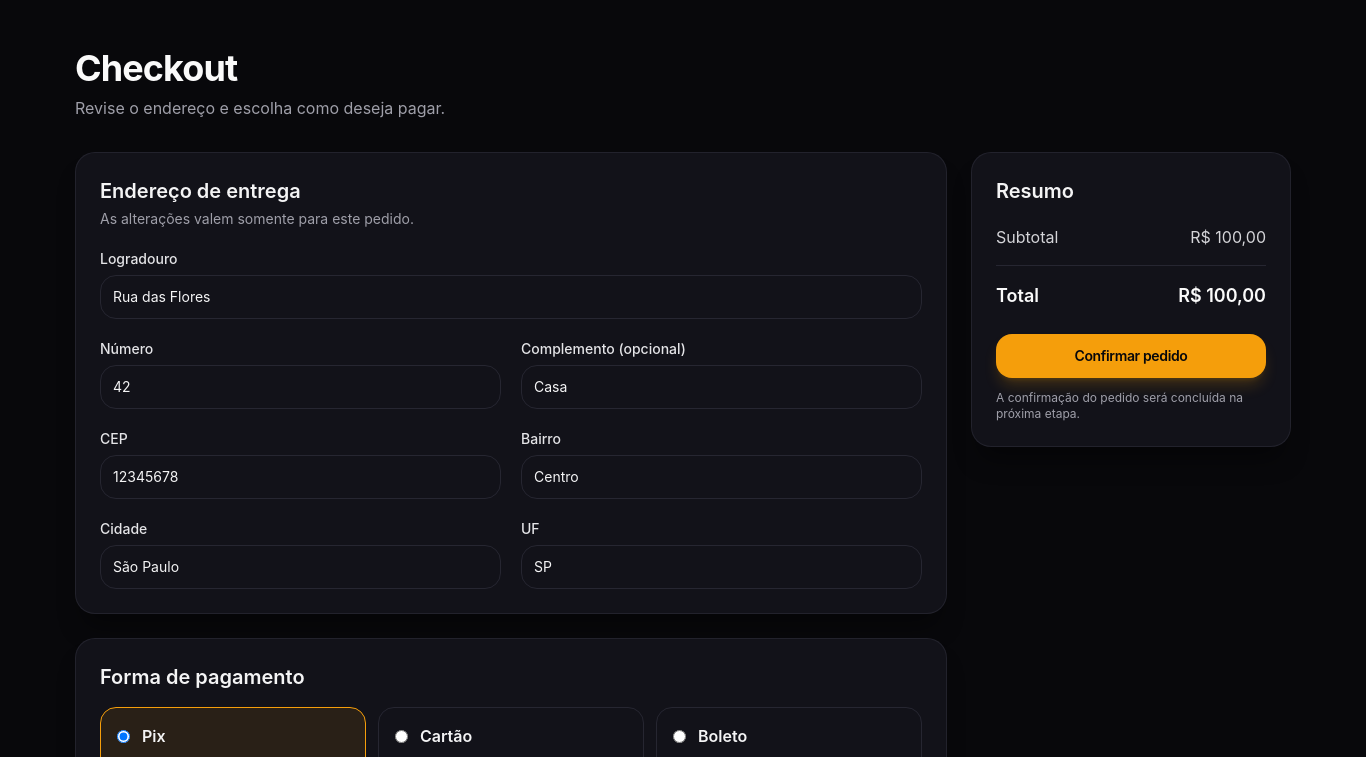
Test: CheckoutPage › keeps address edits local and focuses the actionable summary after invalid submit
Replace the text in the field labelled "Logradouro" with "Rua editada apenas no pedido" at point(511, 297), box [100,275,922,319]
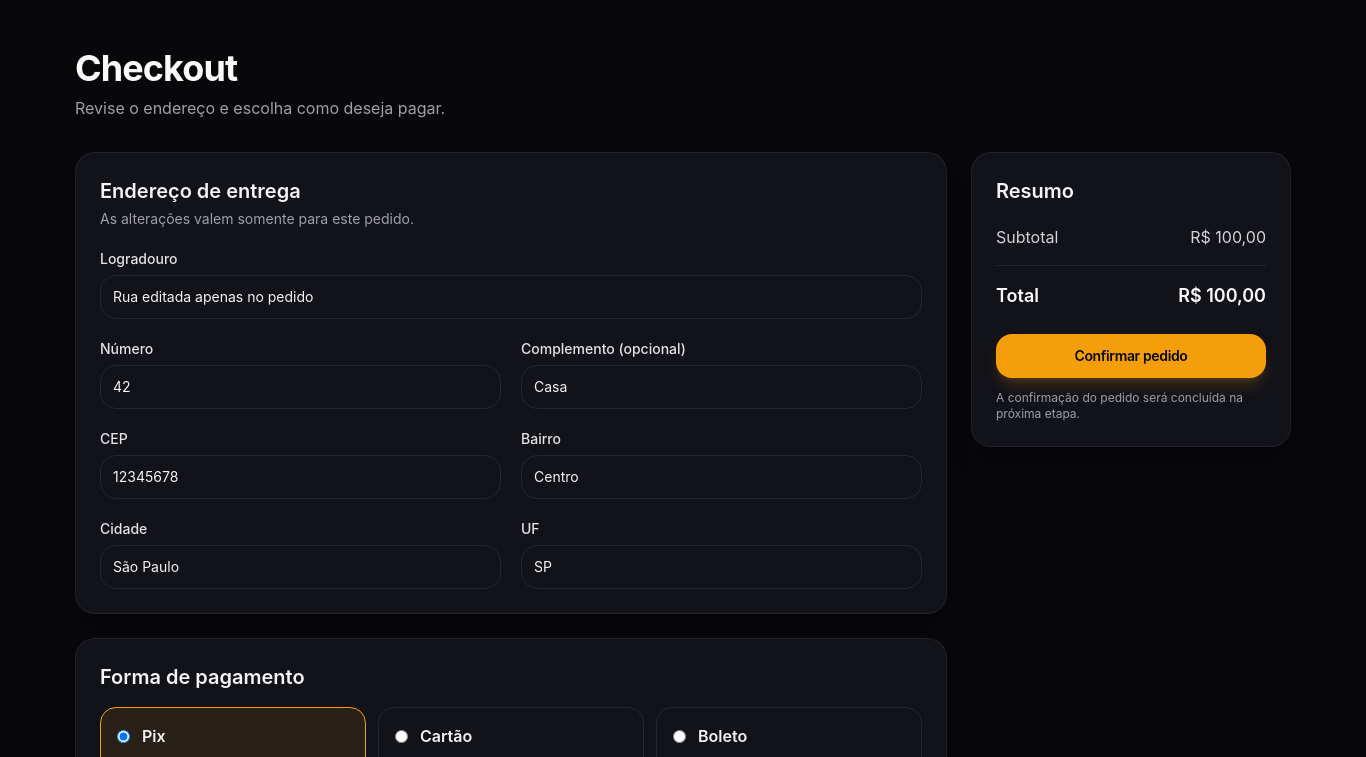
Clear the field labelled "Logradouro" at point(511, 297), box [100,275,922,319]
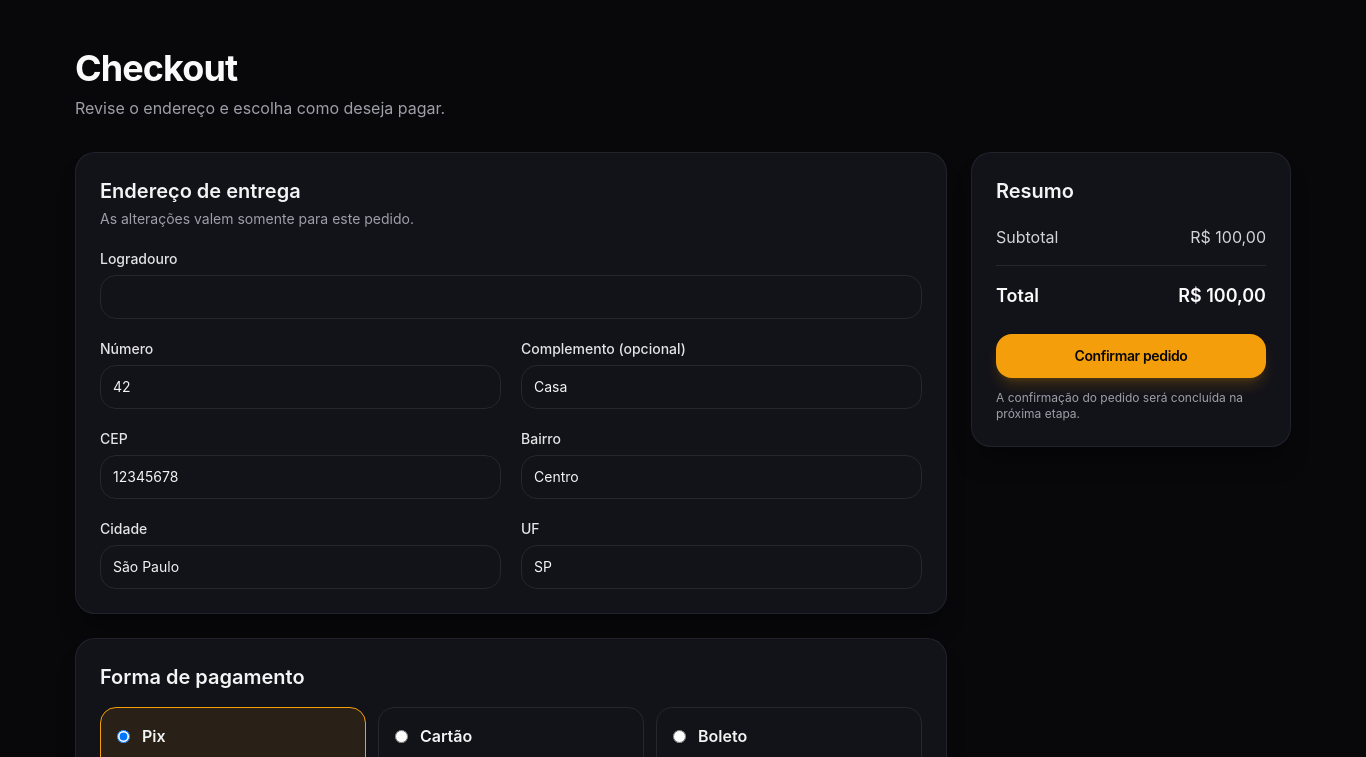
Replace the text in the field labelled "UF" with "S" at point(722, 567), box [521,545,922,589]
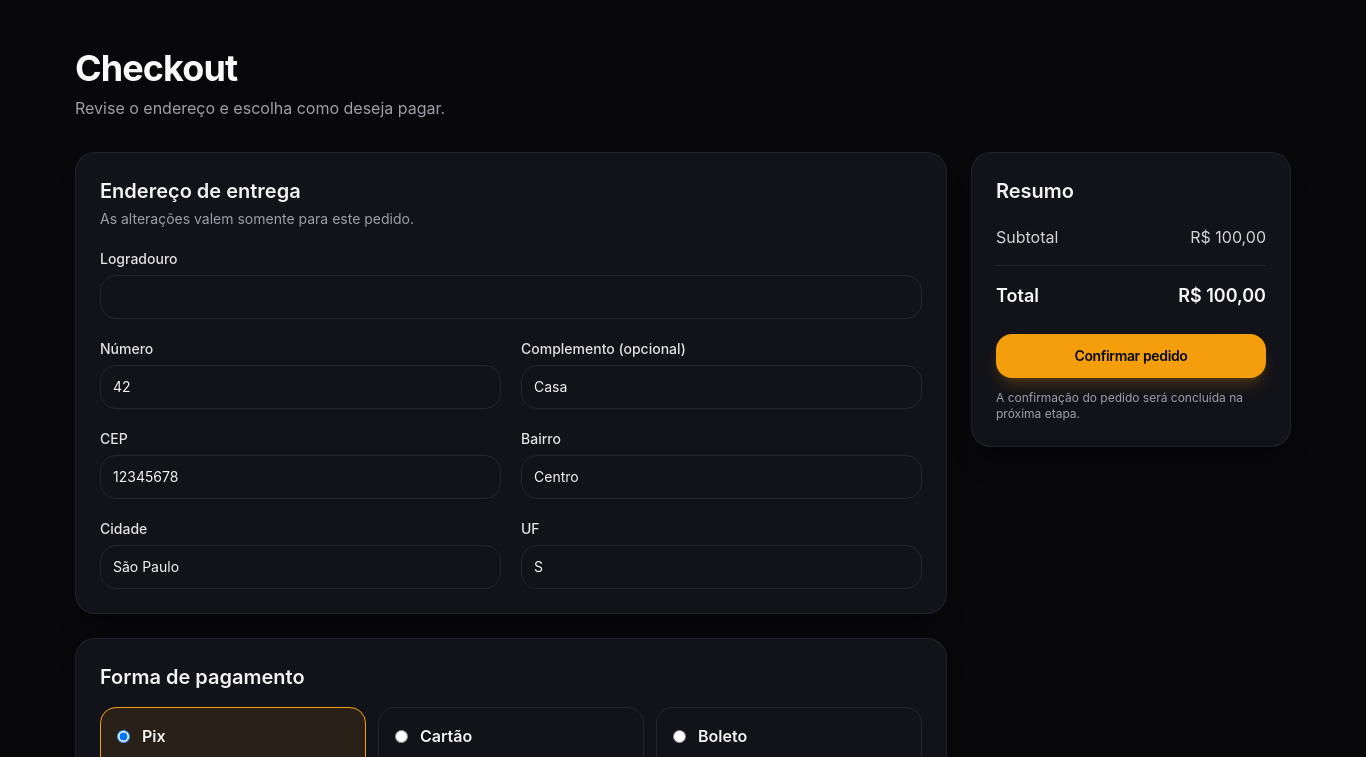
Click the button "Confirmar pedido".
click(1131, 356)  # box [996,334,1266,378]
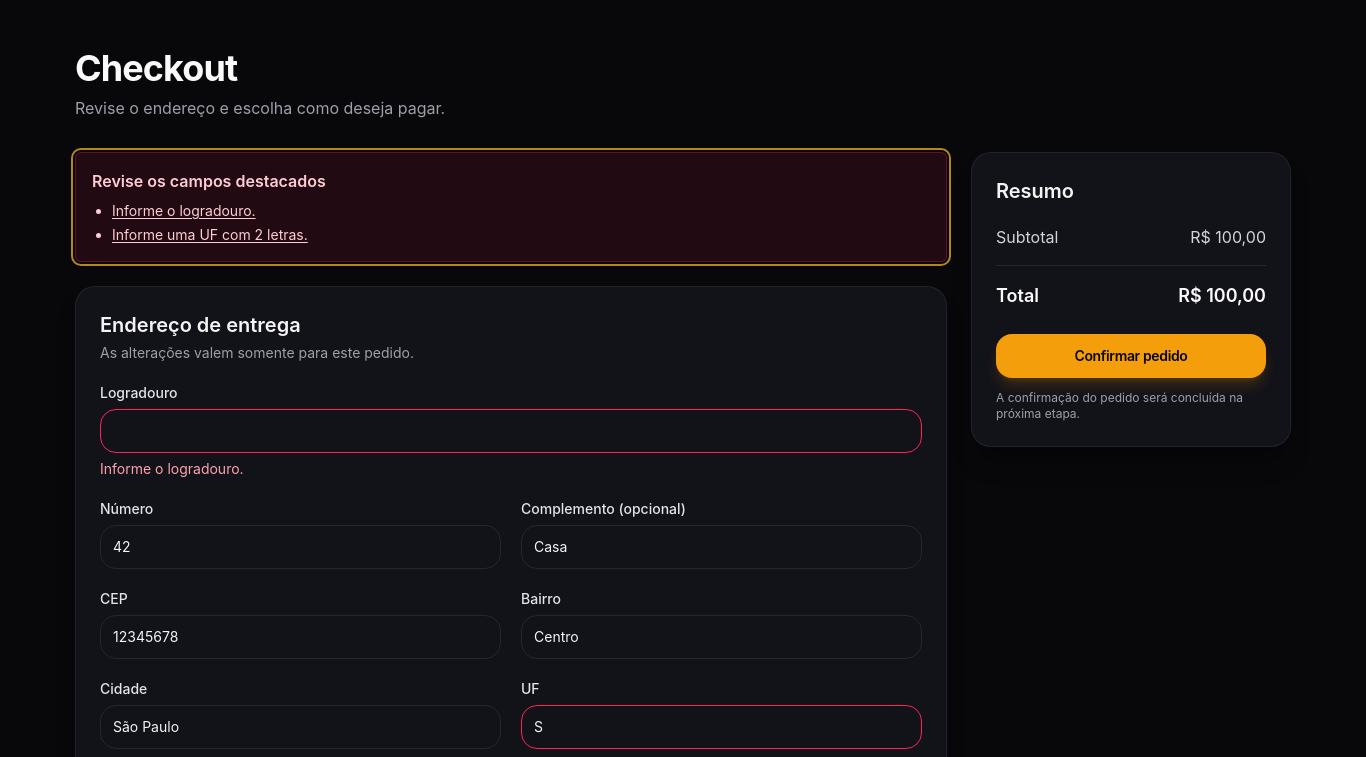
Now the message shows "Revise os campos destacados", box [92,171,326,191]
